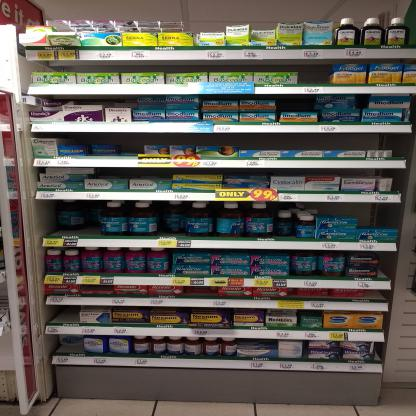Void: (240, 134, 406, 150), (39, 199, 99, 235), (88, 132, 145, 156), (359, 204, 398, 228), (317, 203, 357, 218), (306, 60, 333, 82), (286, 96, 316, 113), (46, 310, 78, 320), (190, 287, 216, 296)
